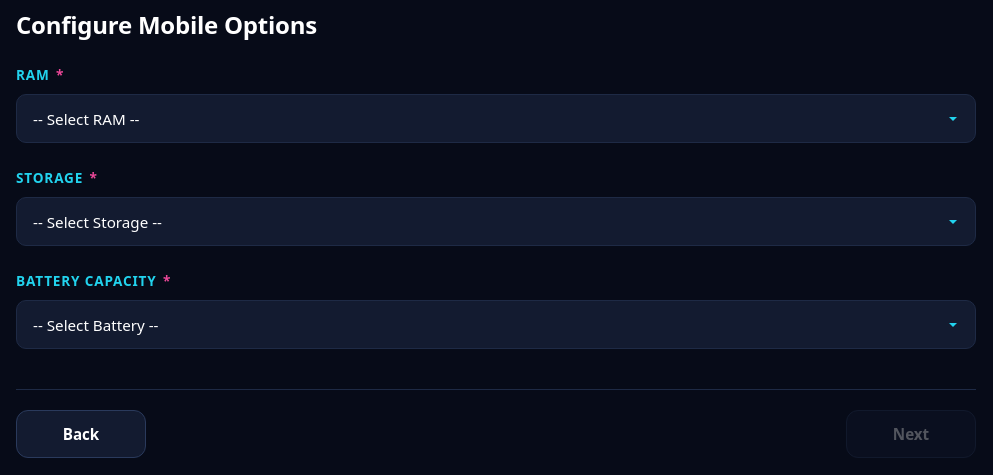
Step2Options › disabled next button › enables next button when all Mobile fields are filled
Select "8GB" in the dropdown labelled "RAM *" at [496, 119], box left=16, top=94, right=976, bottom=143
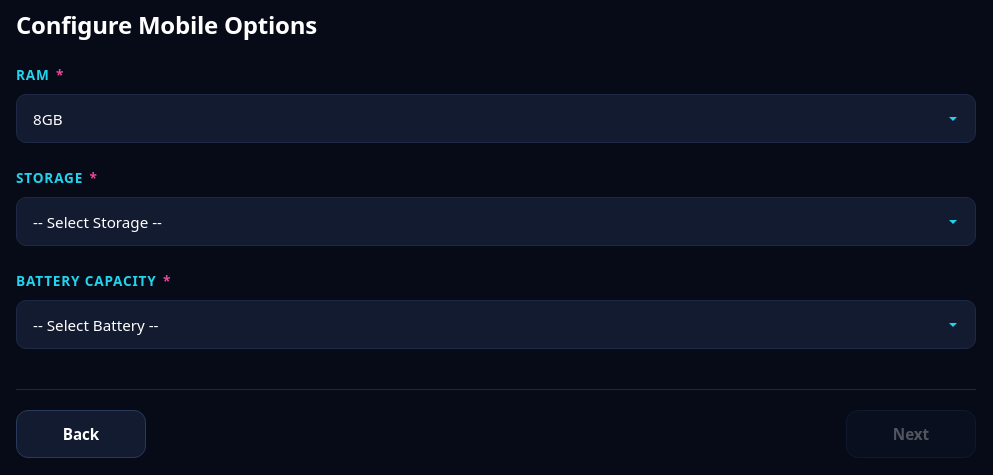
Select "128GB" in the dropdown labelled "Storage *" at [496, 222], box left=16, top=197, right=976, bottom=246
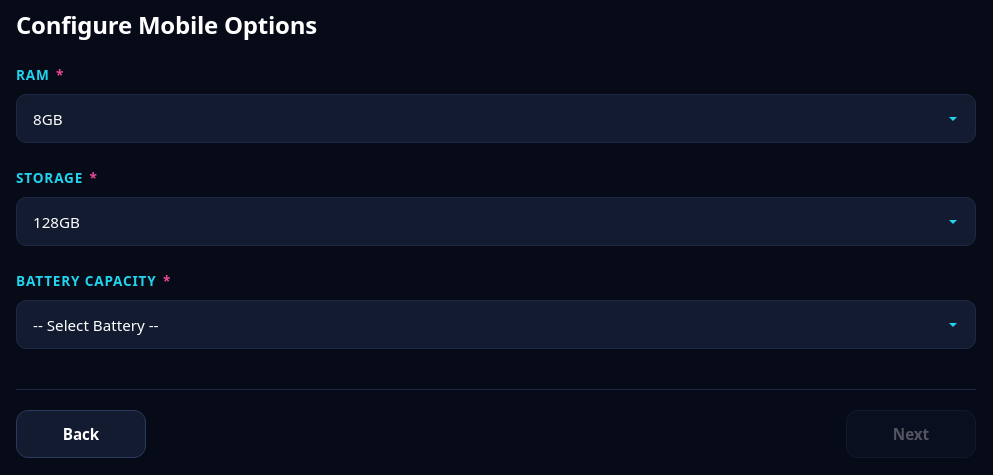
Select "5000mAh" in the dropdown labelled "Battery Capacity *" at [496, 325], box left=16, top=300, right=976, bottom=349
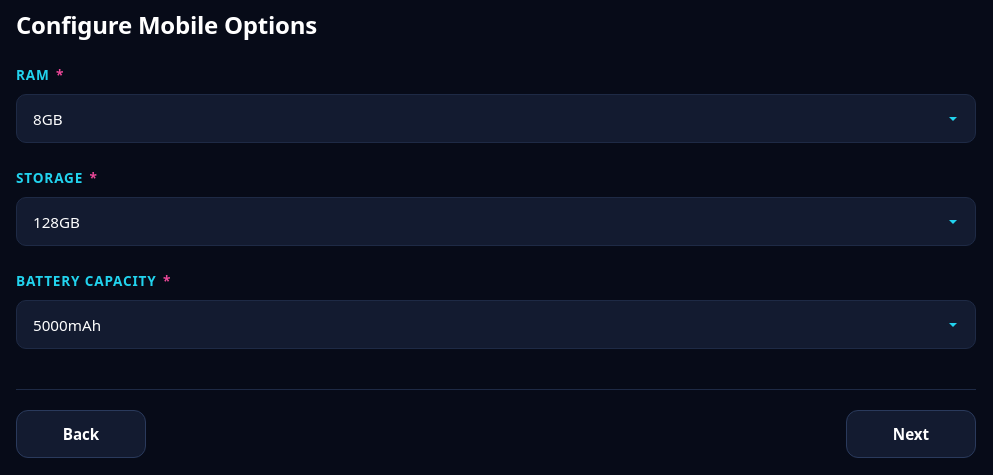
Result: the button "Next" is enabled at left=846, top=410, right=976, bottom=458
